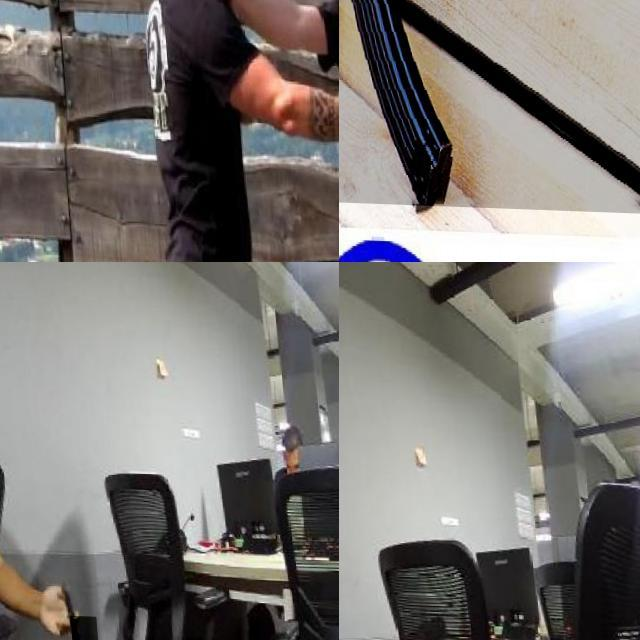-: (339, 589, 361, 632), (61, 613, 92, 640)
gun-knife-thesis - v11 Yolov5 augmented: (339, 0, 640, 227)
